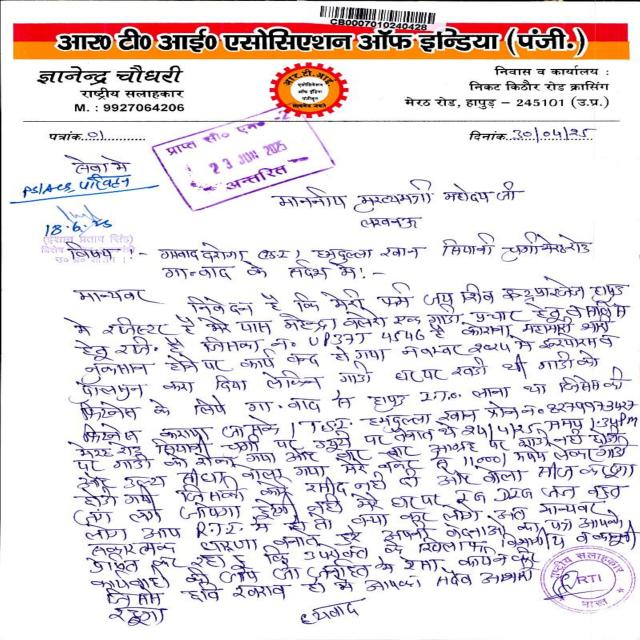antritgovtstamp: (143, 102, 347, 214)
barcode: (318, 0, 439, 34)
logo: (537, 543, 640, 614)
signnamestamp: (37, 207, 142, 271)
